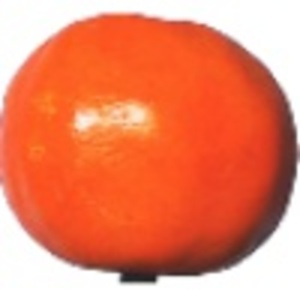tangerina: (1, 11, 300, 283)
